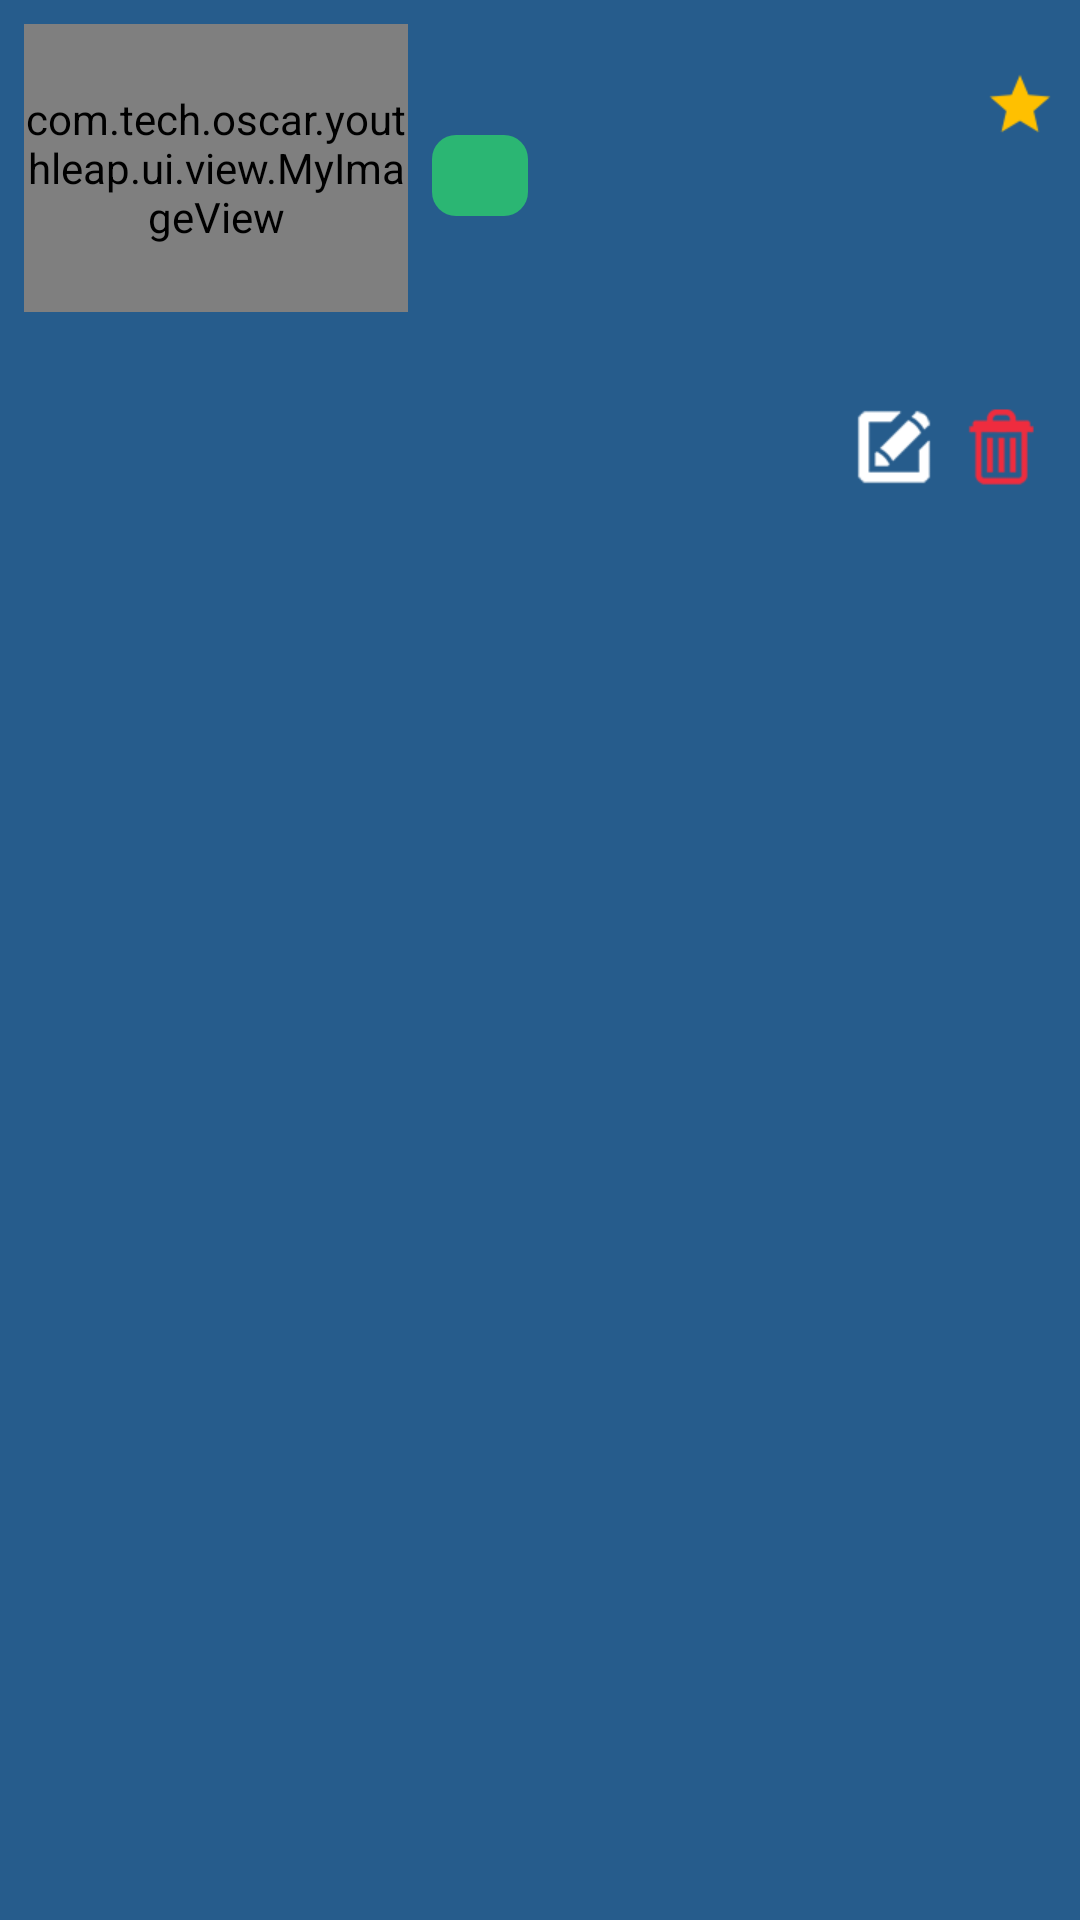

Named icons in this screenshot (1080 × 1920) and their bounding boxes, (left=x1, top=y1, right=x2, bottom=y2):
delete: (left=969, top=409, right=1034, bottom=485)
edit: (left=858, top=410, right=931, bottom=483)
